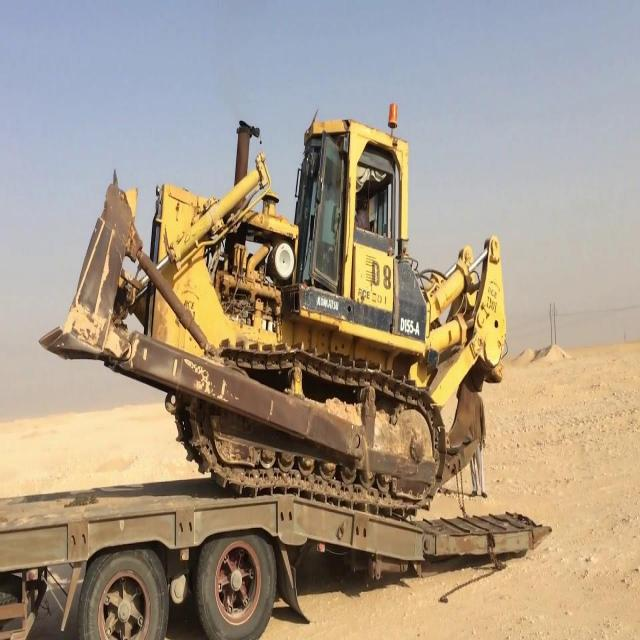Bulldozer: (38, 93, 508, 510)
